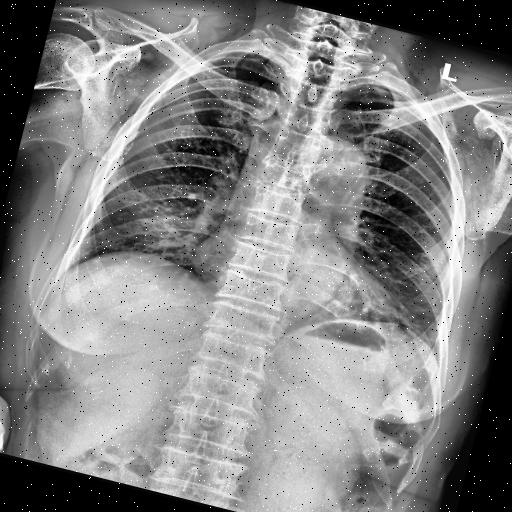0- Aortic enlargement: (290, 134, 379, 227), (294, 130, 378, 208), (304, 132, 377, 204)
3- Cardiomegaly: (183, 241, 416, 339), (182, 231, 406, 332), (186, 244, 398, 328)
